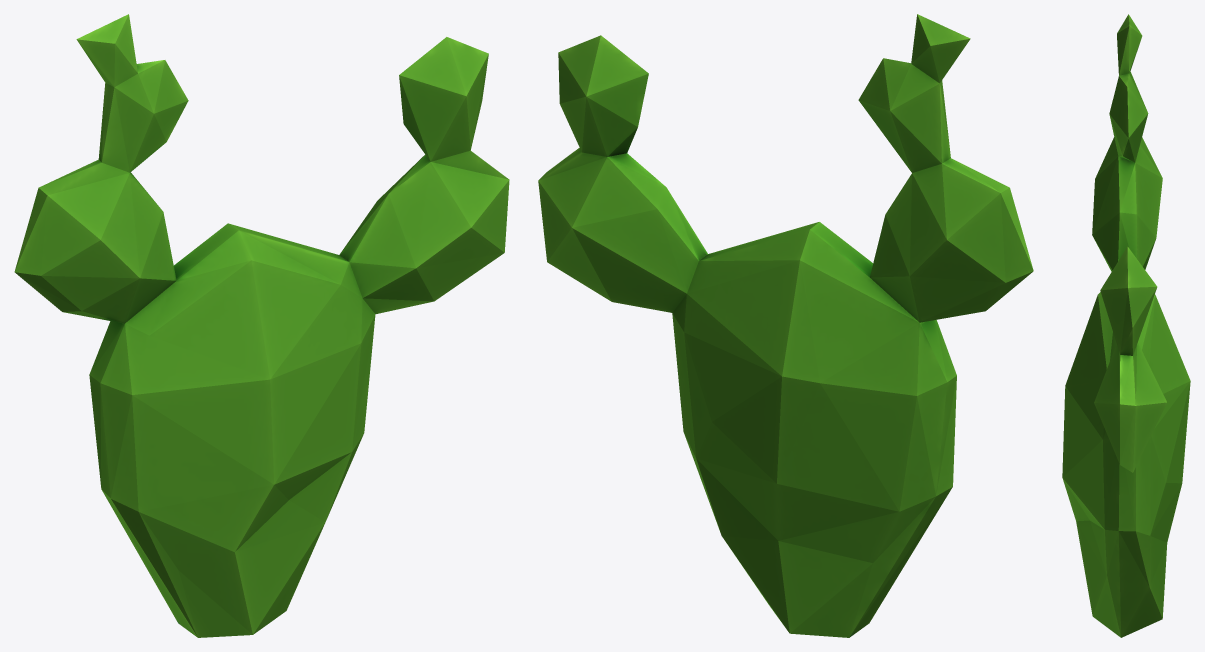
Rendered from Cactus_9.fbx.
3 views of the same model, side by side, from view 1: azimuth 30°, elevation 25°; view 2: azimuth 150°, elevation 25°; view 3: azimuth 270°, elevation 25° (orthographic). The views are drawn at different scales.
Parts seen in each view (by area): view 1: Cactus_9; view 2: Cactus_9; view 3: Cactus_9.
Part boxes in pixels (<box>): Cactus_9: <box>14,14,509,637</box>; Cactus_9: <box>538,14,1033,637</box>; Cactus_9: <box>1062,14,1190,637</box>.
Bounding box in the file's own units: 42.02 × 51.67 × 10.97.
